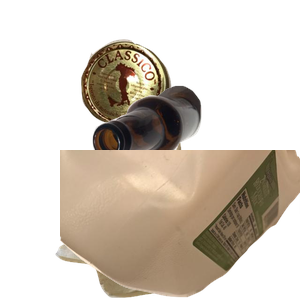glass: (90, 83, 300, 235)
metal: (78, 37, 243, 163)
plastic: (60, 150, 300, 300)
trash: (53, 121, 239, 300)
